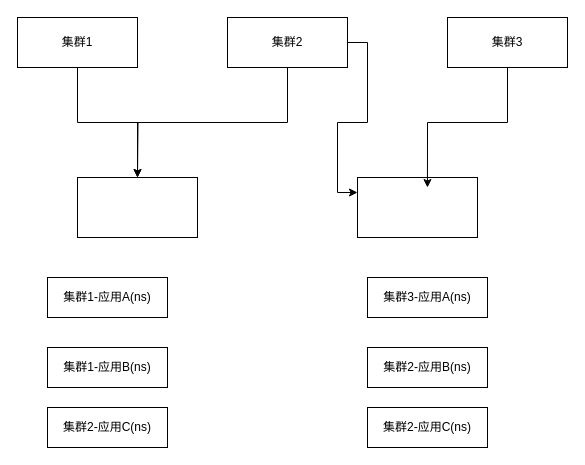
Image size: 585x465. Some labels were removed from this diagram. Each missing label, with the box of its shape:
项目A: (76, 176, 198, 238)
项目B: (356, 176, 478, 238)
